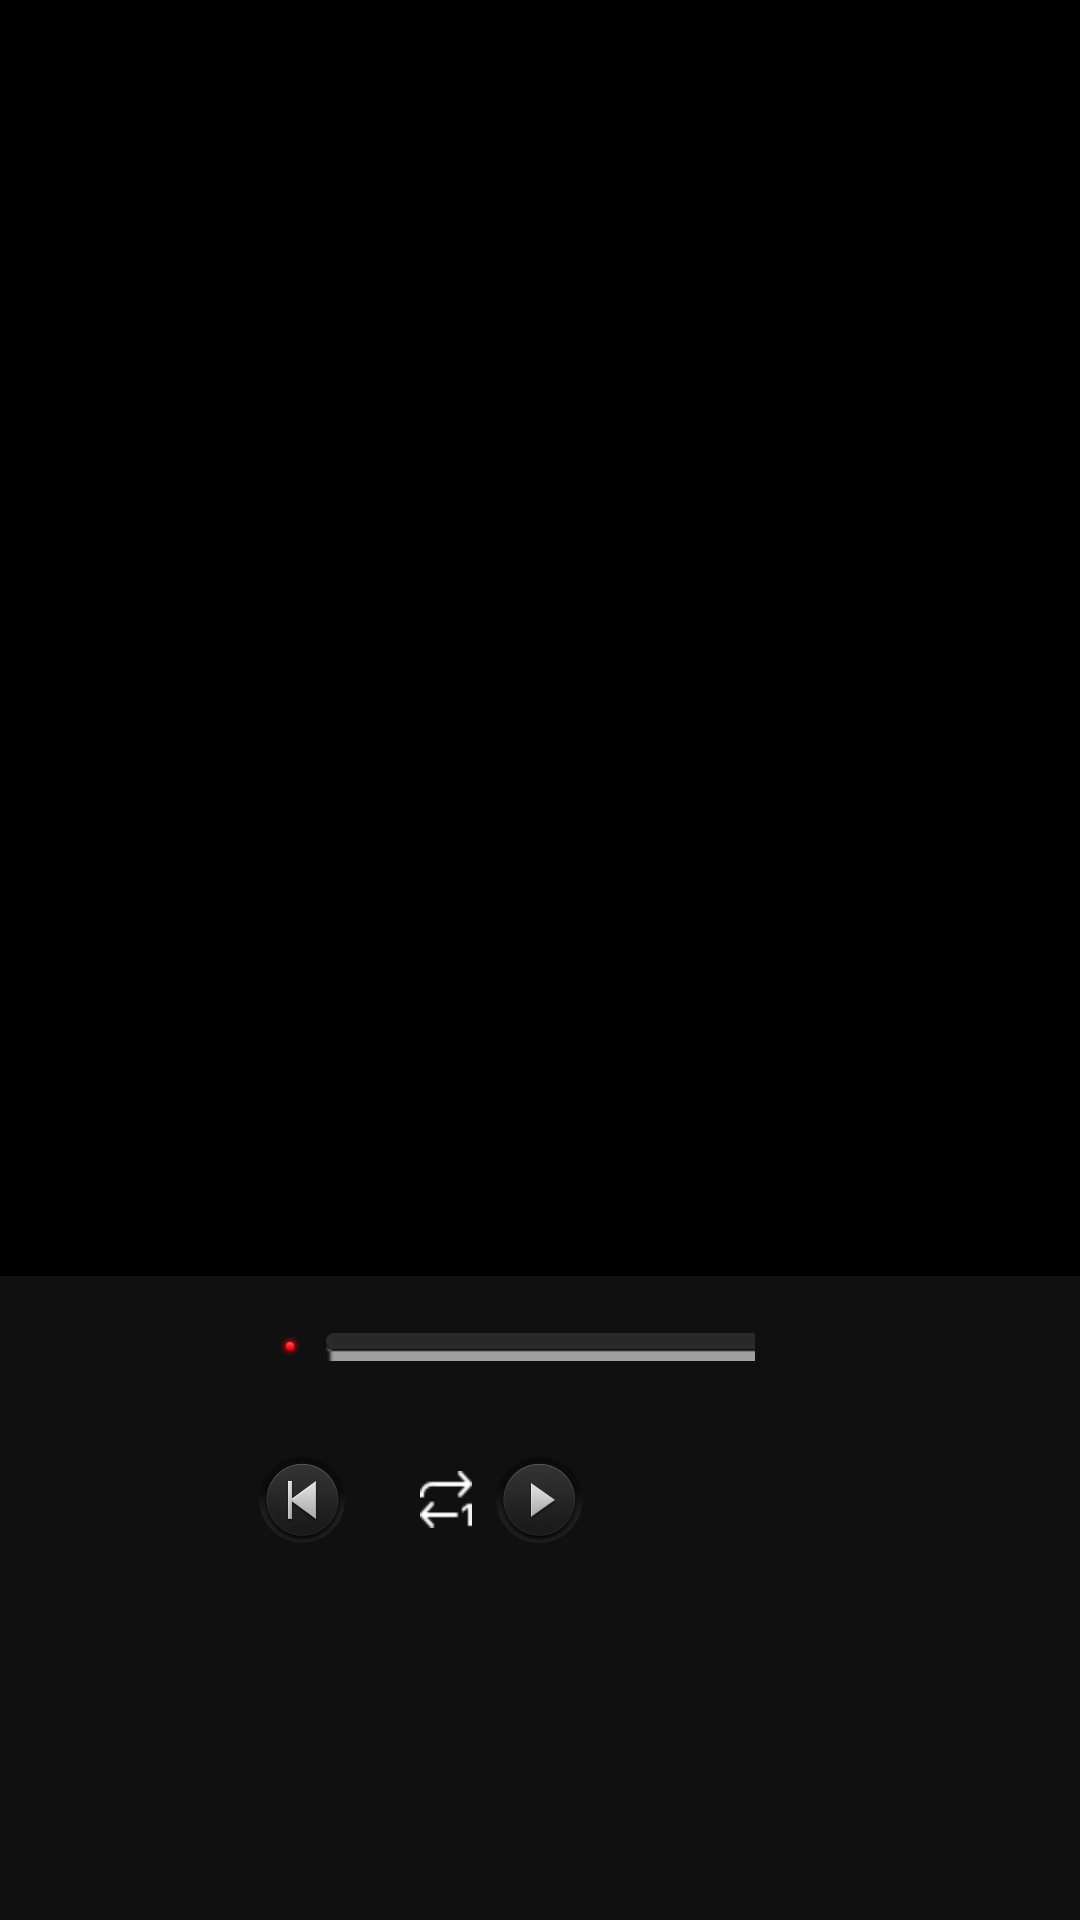

Screen size 1080 x 1920. Icon name, then its box in pixels as Rect(x1, y1, x2, y2):
music play: Rect(504, 1464, 575, 1517)
music pre: Rect(267, 1464, 338, 1519)
single cycle: Rect(420, 1471, 472, 1528)
